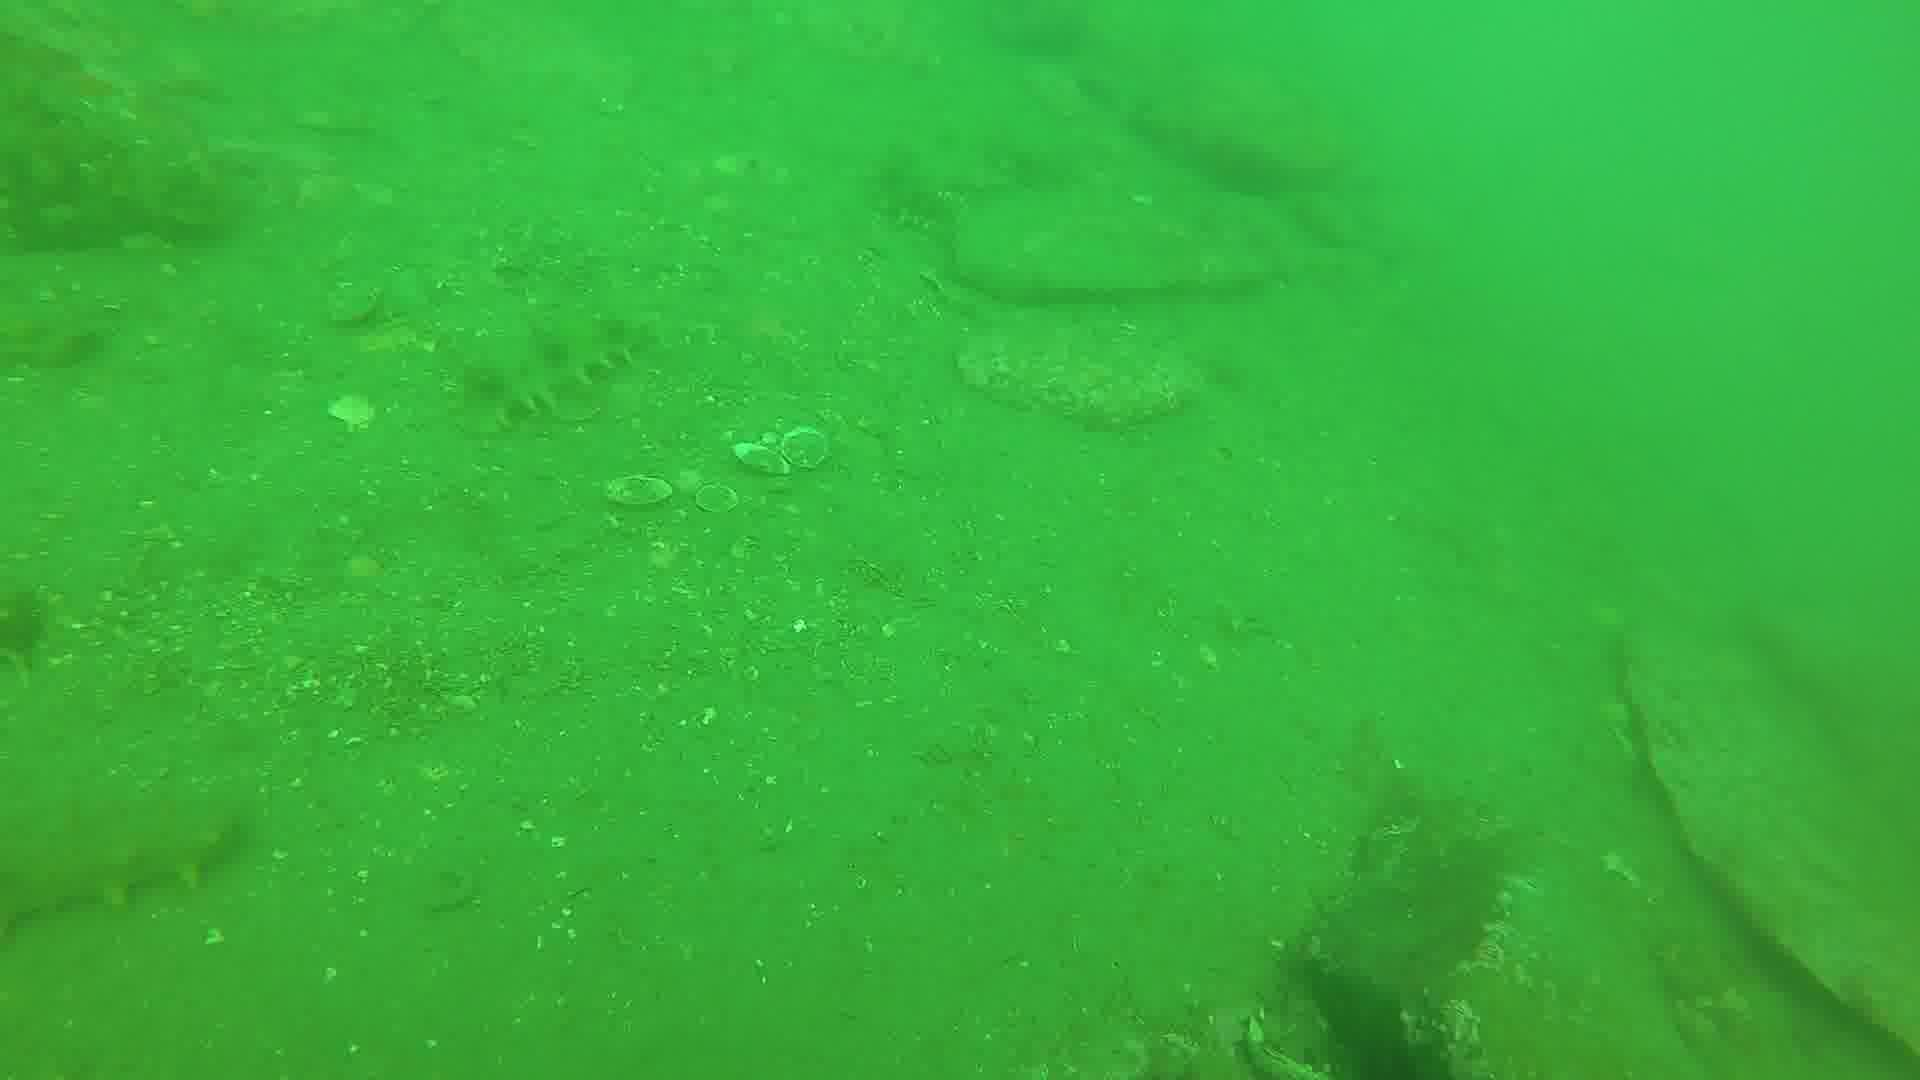holothurian: (1, 802, 265, 928), (456, 309, 645, 434), (865, 138, 972, 231)
